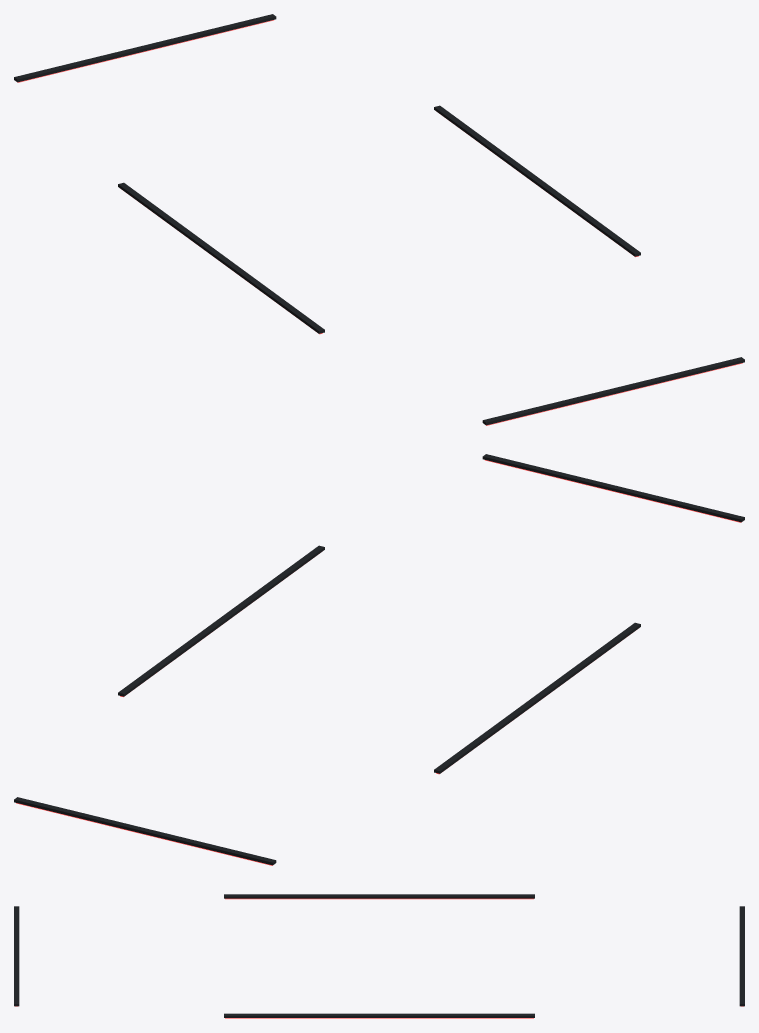
The model's file is underglow_red.glb.
3 renders of one model, top to bottom at view 1: azimuth 30°, elevation 25°; view 2: azimuth 150°, elevation 25°; view 3: azimuth 270°, elevation 25°, orthographic. The views are drawn at different scales.
Visible parts, largest first — view 1: model; view 2: model; view 3: model.
Boxes of the visible parts, x1,y1,x2,y2 form: model: [14, 14, 744, 425]; model: [14, 454, 744, 865]; model: [14, 894, 744, 1018].
Size of the model in its own units: 1.49 by 0.018 by 3.78.
2 materials, 1 textured.
